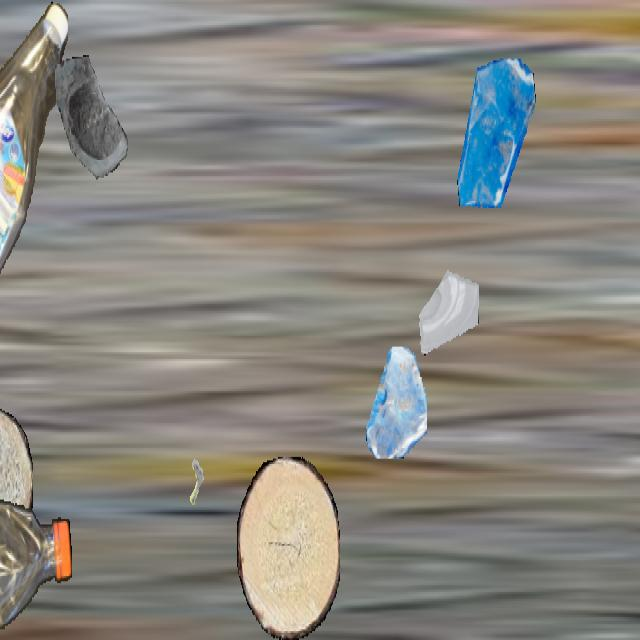glass: (454, 59, 538, 208), (55, 55, 137, 201), (364, 347, 426, 457), (418, 249, 478, 355)
metal: (174, 454, 214, 524)
plastic: (0, 2, 68, 314), (0, 496, 72, 638)
wood: (237, 457, 339, 638), (0, 407, 33, 557)
